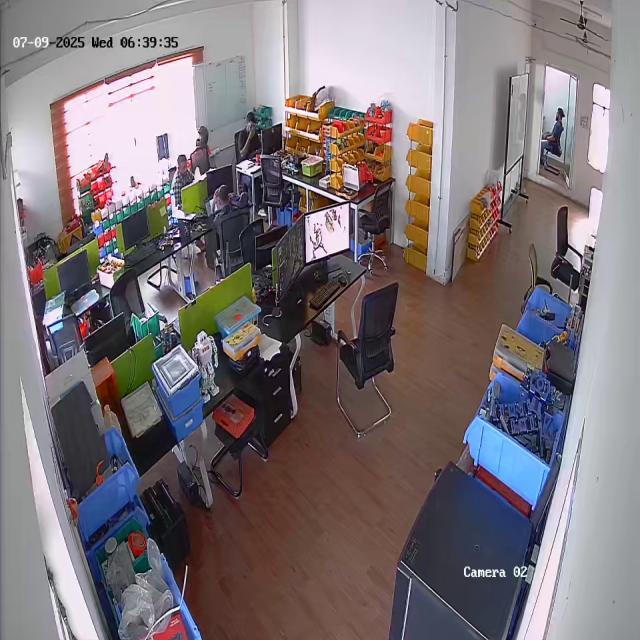person: (205, 184, 249, 274), (230, 110, 267, 174), (542, 103, 569, 172), (168, 154, 198, 216)
